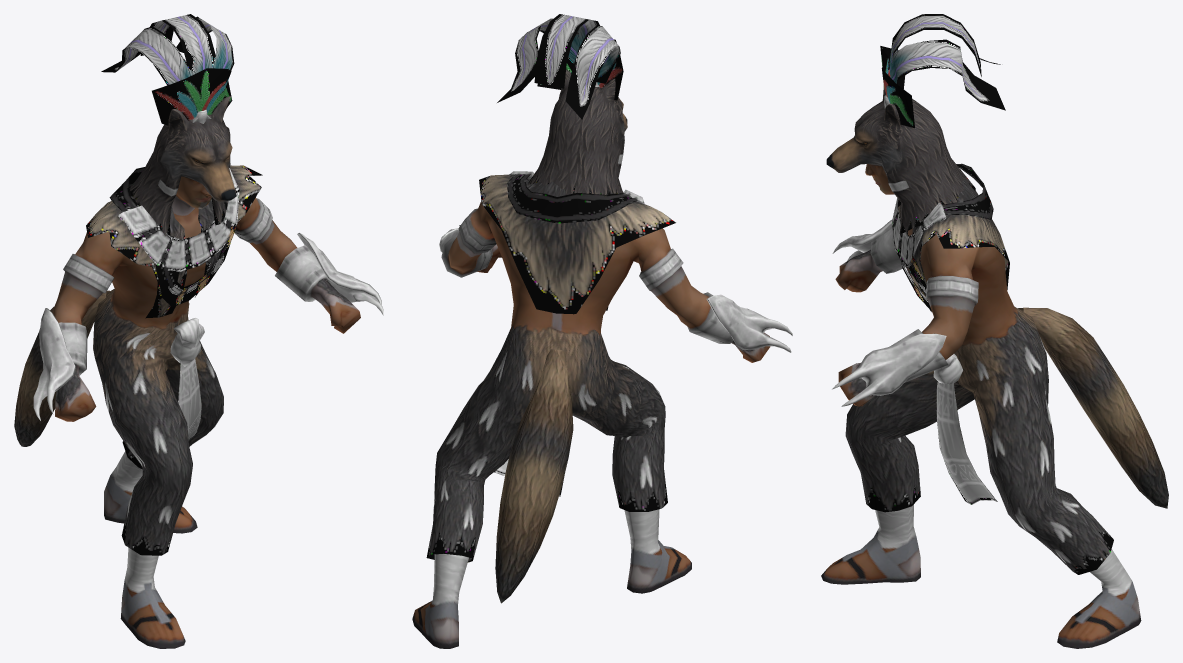
Rendered from body-championnobleshutsoldiers.glb.
The picture shows the model from 3 angles, left to right: view 1: azimuth 30°, elevation 25°; view 2: azimuth 150°, elevation 25°; view 3: azimuth 270°, elevation 25°; orthographic projection. The views are drawn at different scales.
Bounding box in the file's own units: 1.37 × 2.18 × 1.17.
Materials: 2 (2 with a texture image).
